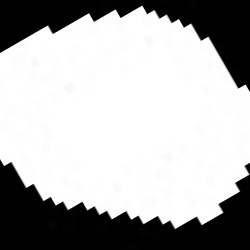spot: (3, 7, 246, 229)
